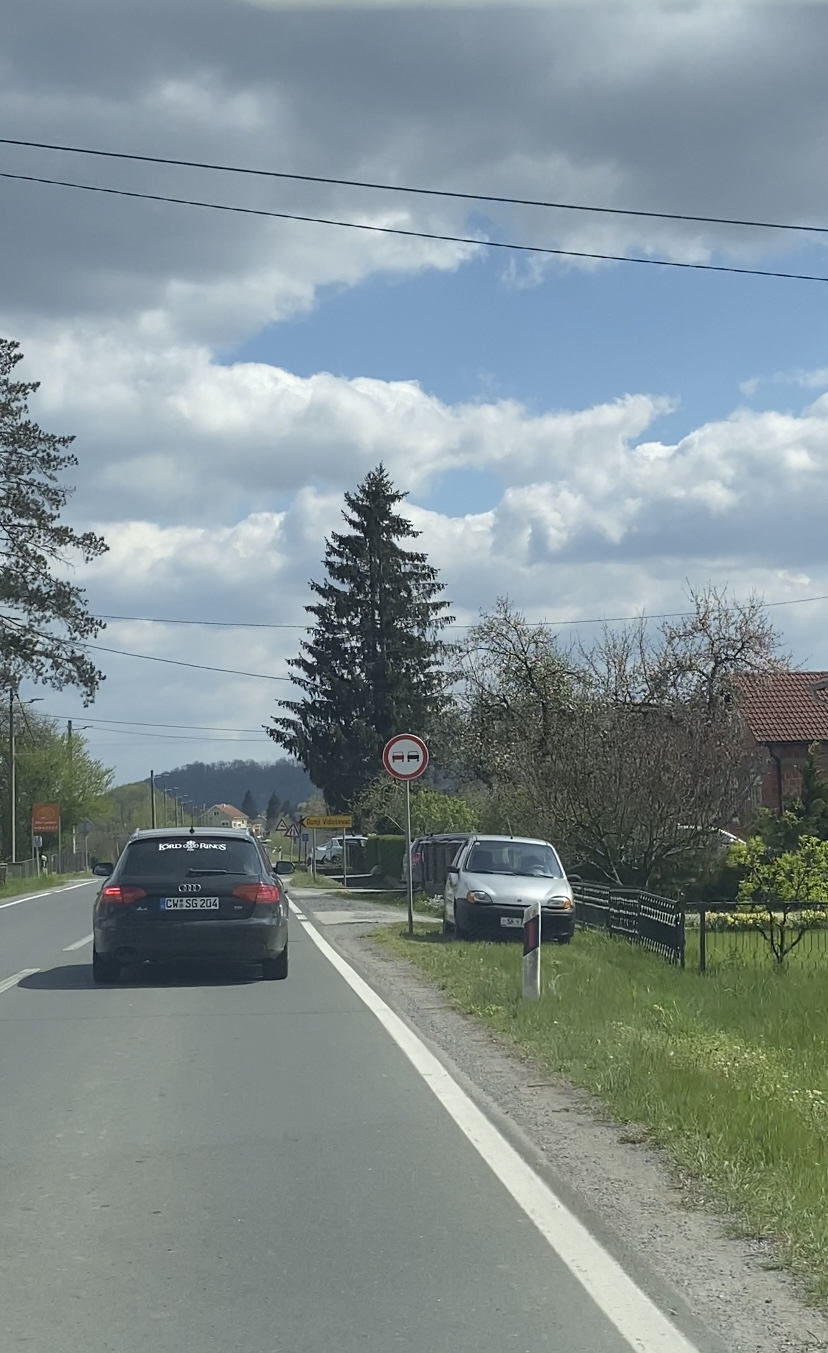Zabrana pretjecanja: (382, 733, 429, 780)
